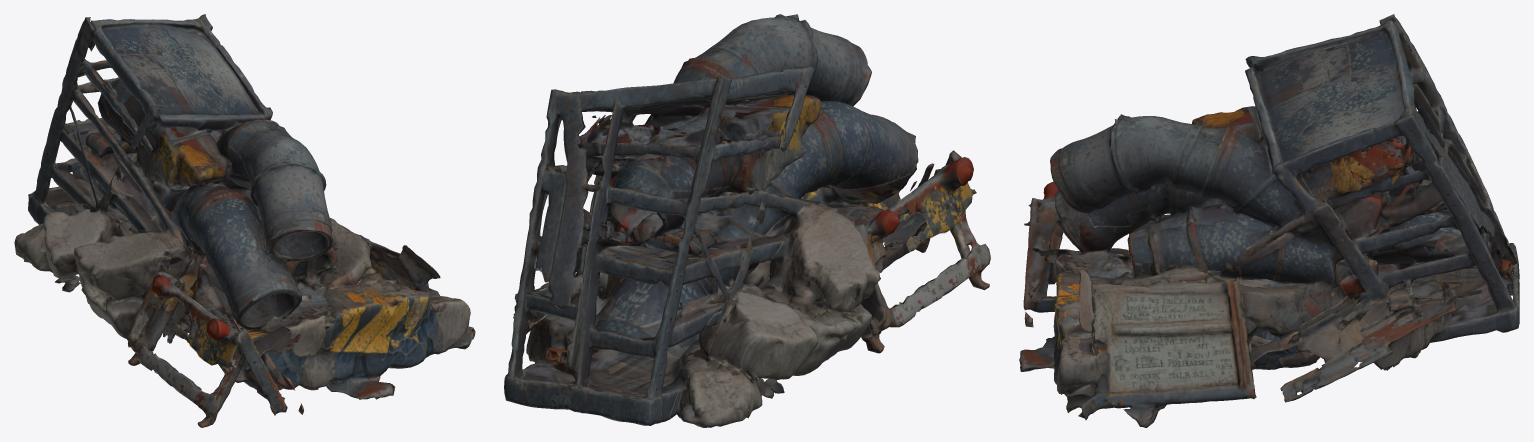
Rendered from Obstacle.glb.
3 renders of one model, left to right at view 1: azimuth 30°, elevation 25°; view 2: azimuth 150°, elevation 25°; view 3: azimuth 270°, elevation 25°, orthographic. The views are drawn at different scales.
Parts seen in each view (by area): view 1: texture_mapping; view 2: texture_mapping; view 3: texture_mapping.
Boxes of the visible parts, x1=… form: texture_mapping: x1=14, y1=14, x2=475, y2=427; texture_mapping: x1=504, y1=14, x2=990, y2=427; texture_mapping: x1=1019, y1=14, x2=1519, y2=427.
Size of the model in its own units: 0.7228 by 0.6448 by 0.9941.
Materials: 1 (1 with a texture image).
